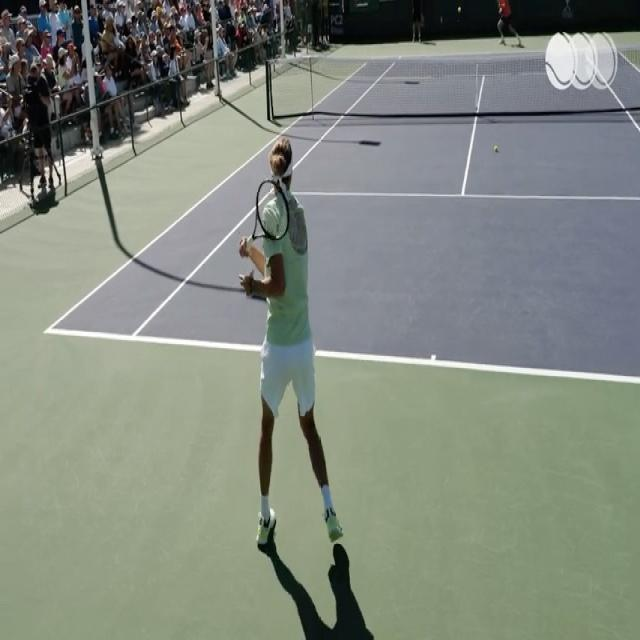forehand-finish: (219, 125, 338, 580)
